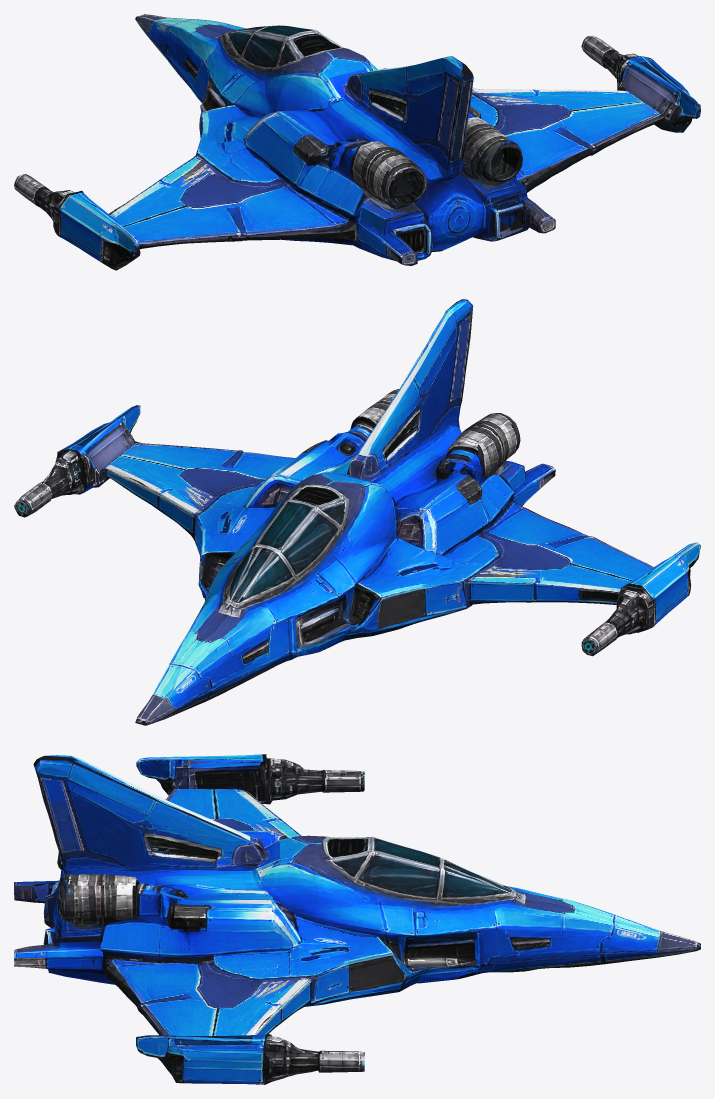
Rendered from player.glb.
3 views of the same model, one above another, from view 1: azimuth 30°, elevation 25°; view 2: azimuth 150°, elevation 25°; view 3: azimuth 270°, elevation 25° (orthographic).
Parts seen in each view (by area): view 1: world; view 2: world; view 3: world.
Part boxes in pixels (bbox=[...]): world: bbox=[14, 14, 700, 270]; world: bbox=[14, 299, 700, 725]; world: bbox=[14, 754, 700, 1084].
Bounding box in the file's own units: 0.9993 × 0.3268 × 0.9838.
Materials: 1 (1 with a texture image).
